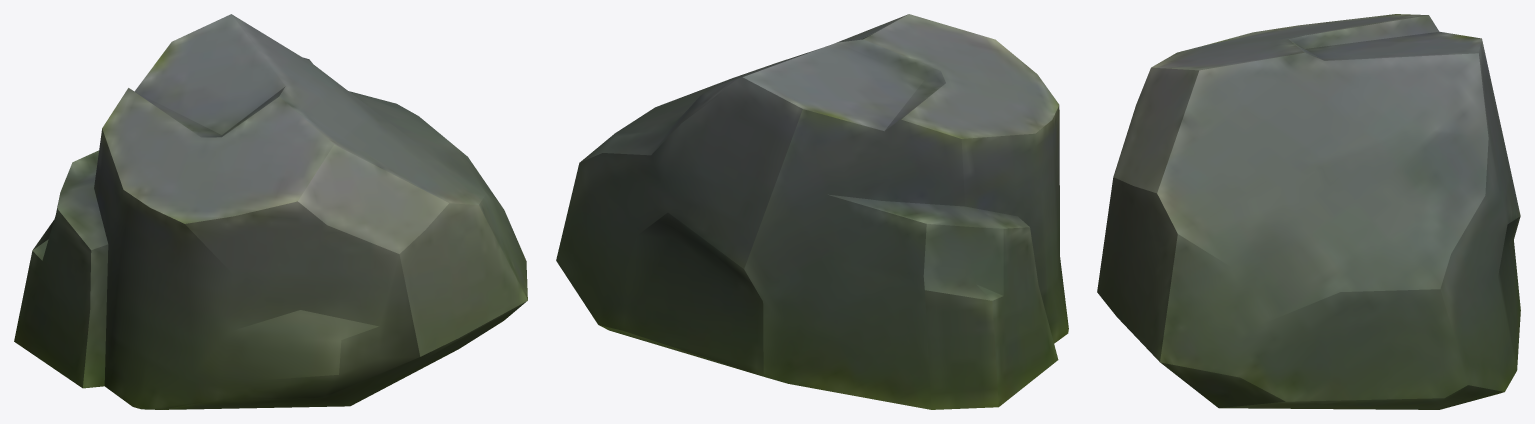
Rendered from Rock_Medium_2.glb.
3 renders of one model, left to right at view 1: azimuth 30°, elevation 25°; view 2: azimuth 150°, elevation 25°; view 3: azimuth 270°, elevation 25°, orthographic. The views are drawn at different scales.
Parts seen in each view (by area): view 1: Rock_Medium_2; view 2: Rock_Medium_2; view 3: Rock_Medium_2.
Part boxes in pixels (left/top/right/bottom): Rock_Medium_2: left=14, top=14, right=527, bottom=409; Rock_Medium_2: left=556, top=14, right=1068, bottom=409; Rock_Medium_2: left=1097, top=14, right=1520, bottom=409.
Bounding box in the file's own units: 3.05 × 1.89 × 2.48.
1 material, 1 textured.
